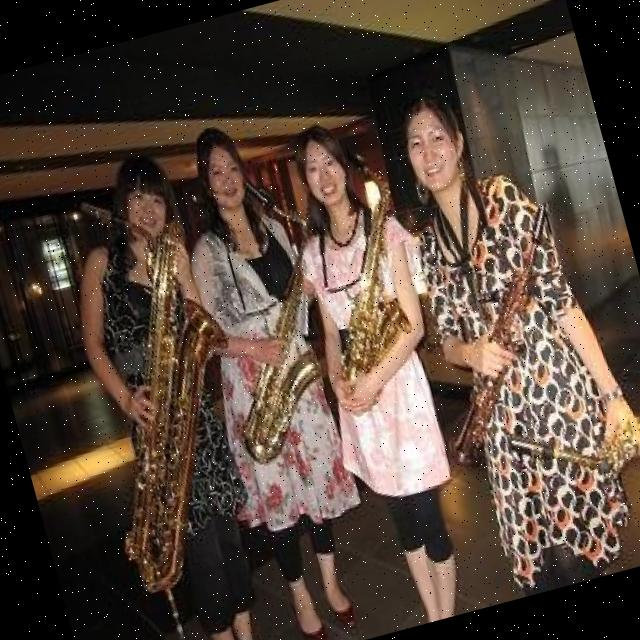saxophone: (393, 194, 616, 475), (178, 162, 372, 464), (280, 137, 451, 406), (500, 377, 640, 514)
